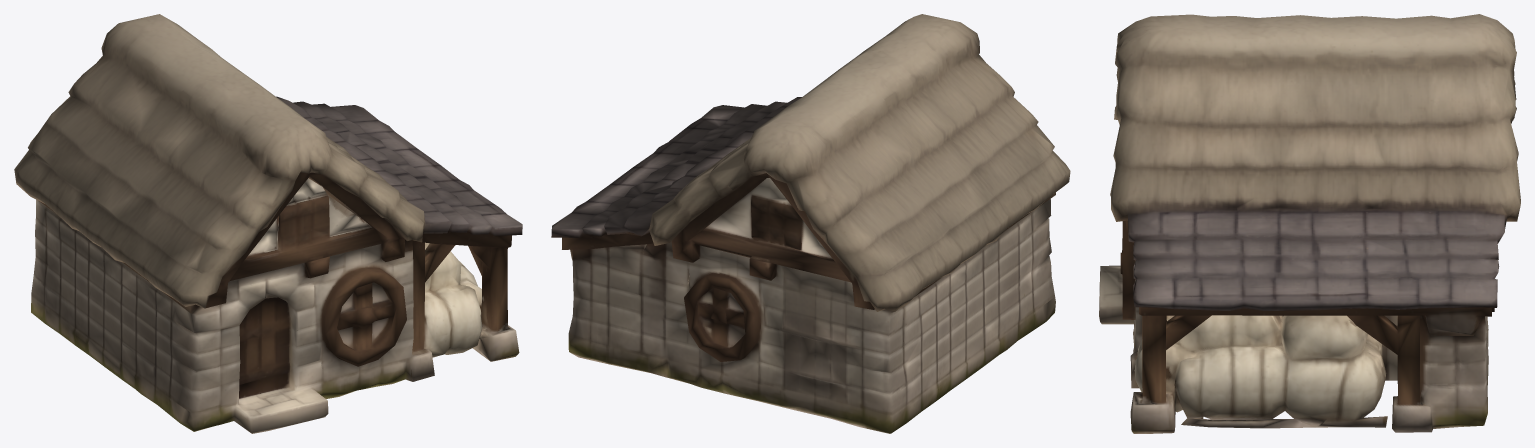
File: spinnery.glb
3 renders of one model, left to right at view 1: azimuth 30°, elevation 25°; view 2: azimuth 150°, elevation 25°; view 3: azimuth 270°, elevation 25°, orthographic. The views are drawn at different scales.
Parts seen in each view (by area): view 1: geometry_0.001; view 2: geometry_0.001; view 3: geometry_0.001.
Part boxes in pixels (<box>): geometry_0.001: <box>14,14,522,433</box>; geometry_0.001: <box>551,14,1070,433</box>; geometry_0.001: <box>1099,14,1520,433</box>.
Size of the model in its own units: 1.99 by 1.49 by 1.91.
1 material, 1 textured.
